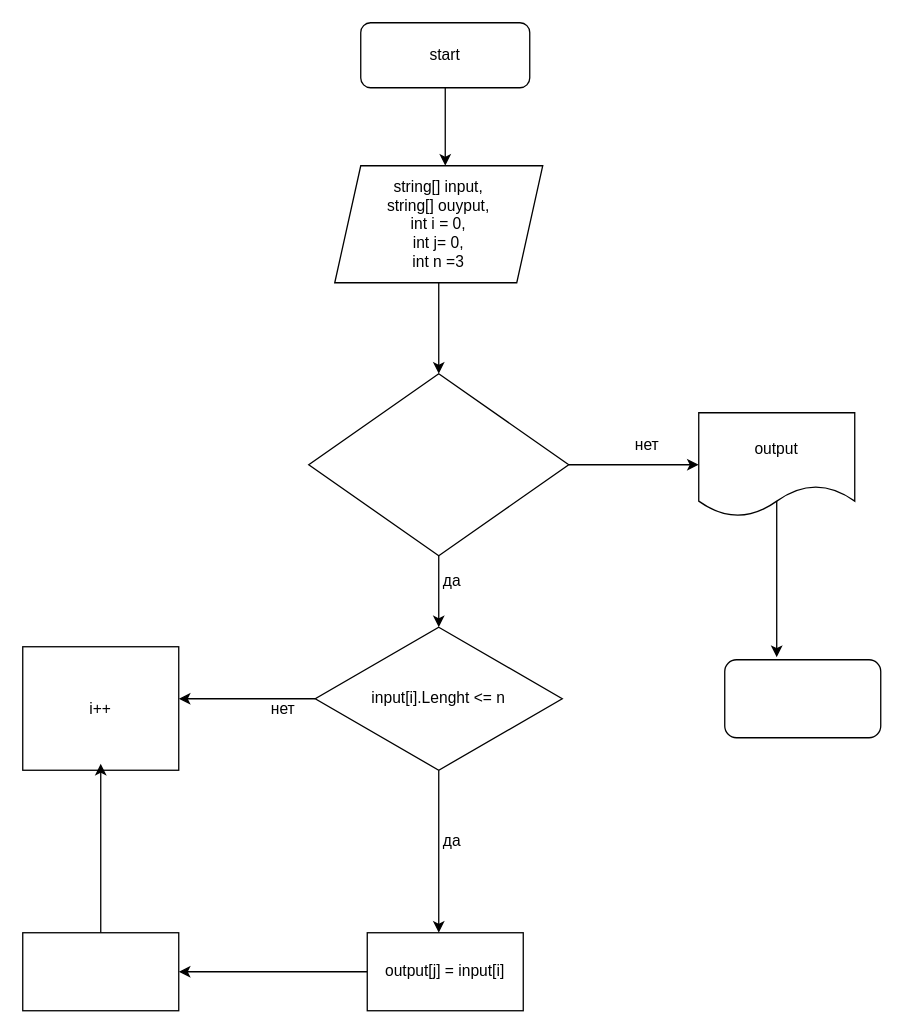
Image size: 903x1034. Some labels were removed from this diagram. The centre of each missing label's shape, as x and y in pixels:
"i < input.Length" belongs at (438,464).
"j++" belongs at (100,971).
"конец" belongs at (802,698).
